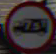Heavy Vehicles: (5, 1, 51, 49)
